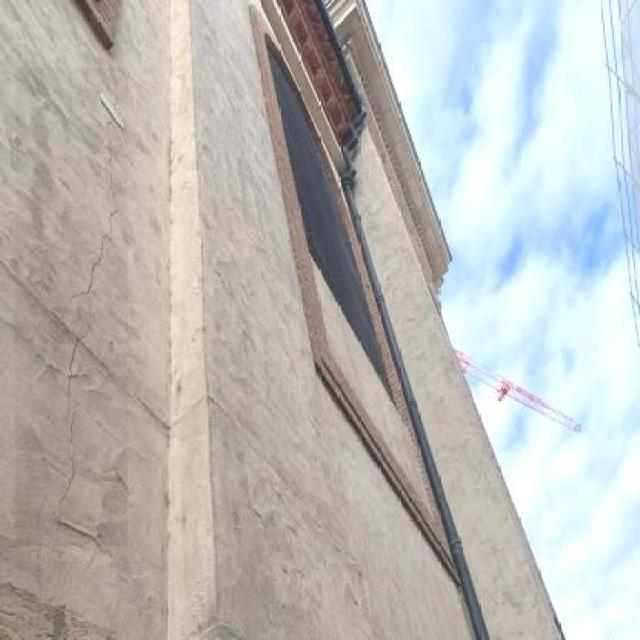Crack: (40, 74, 134, 604)
